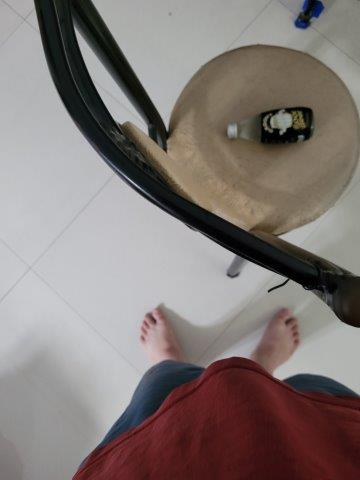botolkaca: (226, 106, 314, 143)
